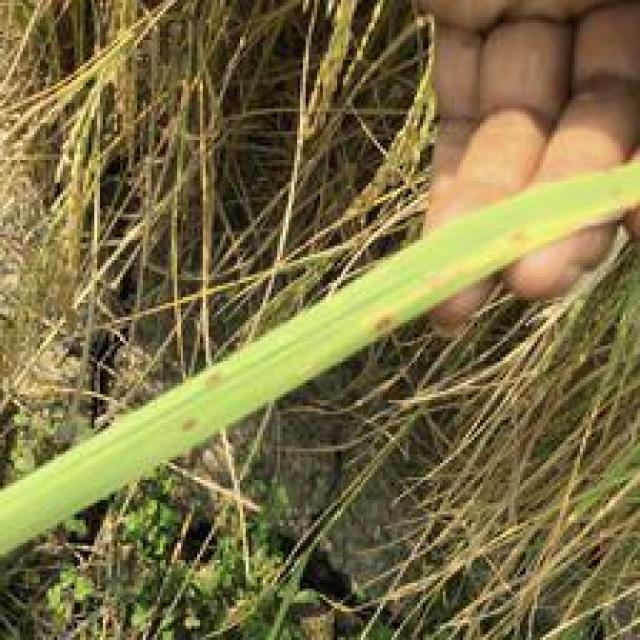Brown_Spot: (494, 217, 529, 246), (200, 363, 223, 386), (169, 412, 197, 428), (366, 314, 394, 329)
